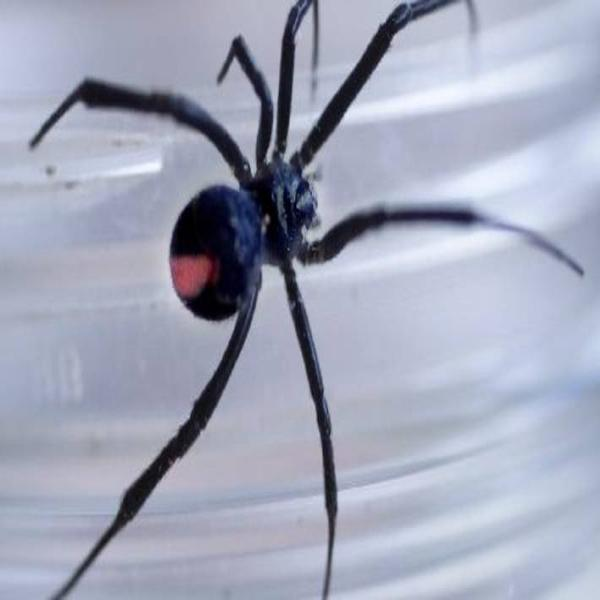Redback Spider: (33, 2, 559, 588)
